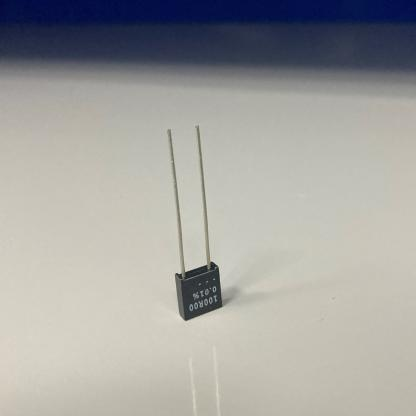SP0000007: (118, 58, 276, 340)
